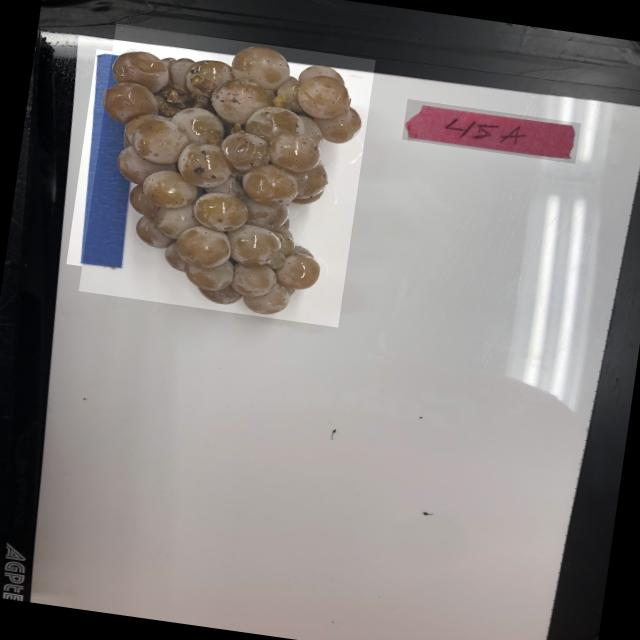grape_cluster: (78, 24, 376, 328)
index: (402, 99, 581, 164)
measure_label: (66, 50, 154, 272)
